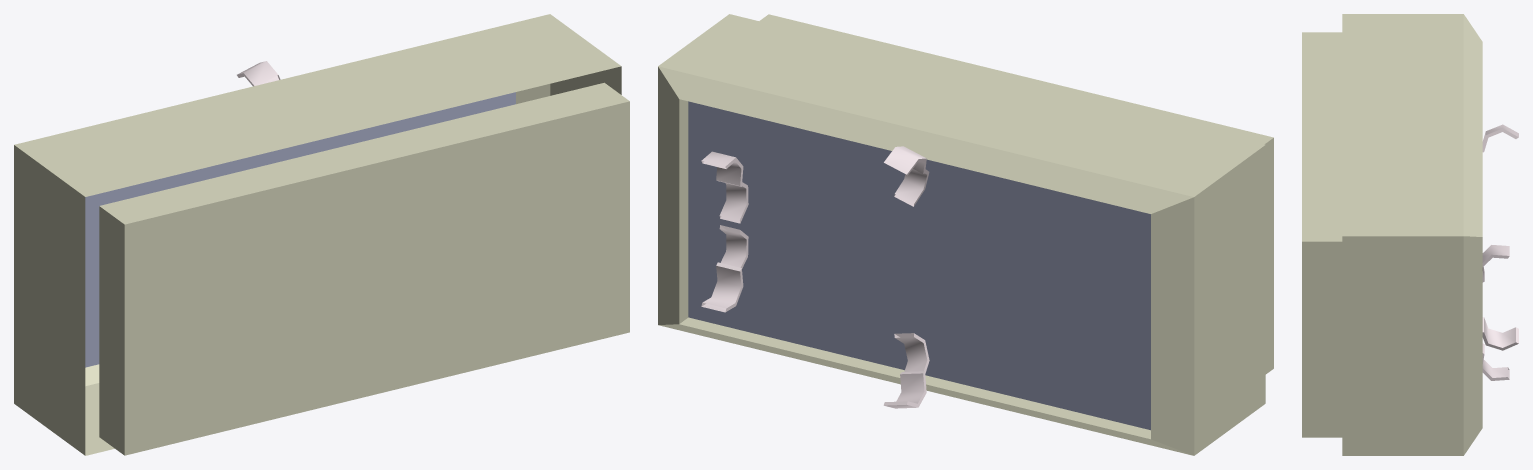
3 renders of one model, left to right at view 1: azimuth 30°, elevation 25°; view 2: azimuth 150°, elevation 25°; view 3: azimuth 270°, elevation 25°, orthographic. The views are drawn at different scales.
Parts seen in each view (by area): view 1: Object20; view 2: Object20; view 3: Object20.
Boxes of the visible parts, bbox=[...] form: Object20: bbox=[14, 14, 629, 455]; Object20: bbox=[658, 14, 1273, 455]; Object20: bbox=[1302, 14, 1518, 455].
Size of the model in its own units: 22898 by 10689 by 9442.
